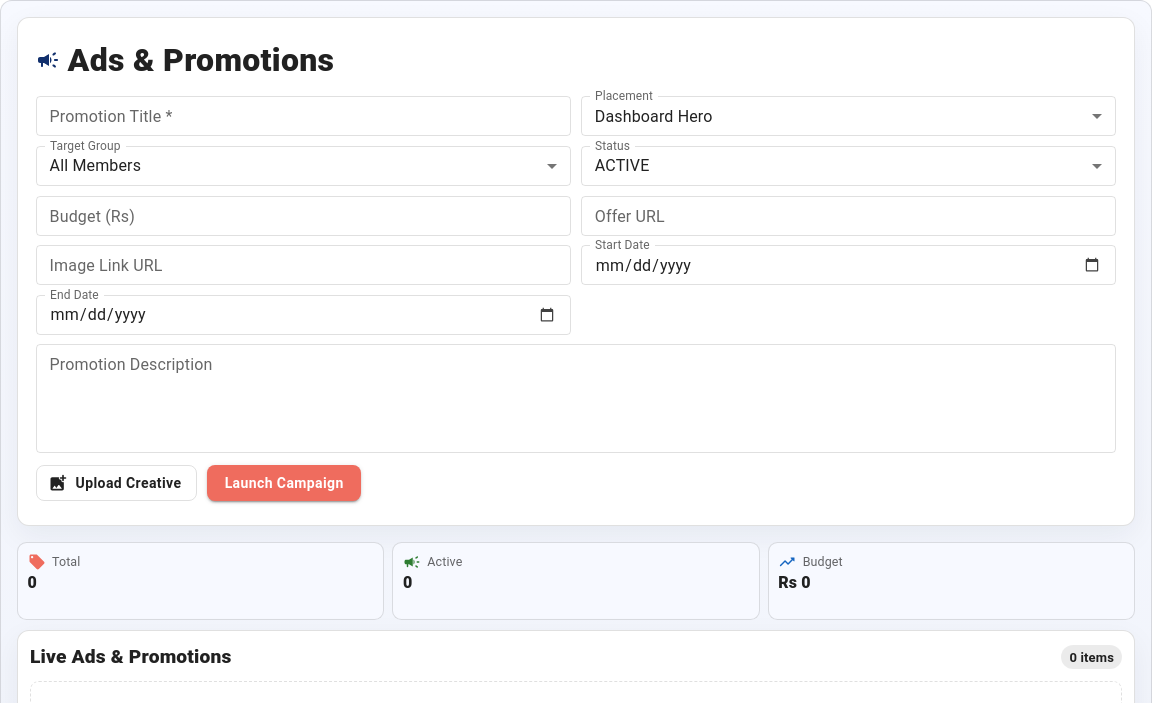
Test: AdminPromotions › shows validation error when required fields are missing
Click the button "Launch Campaign": (284, 483) [207, 464, 361, 501]
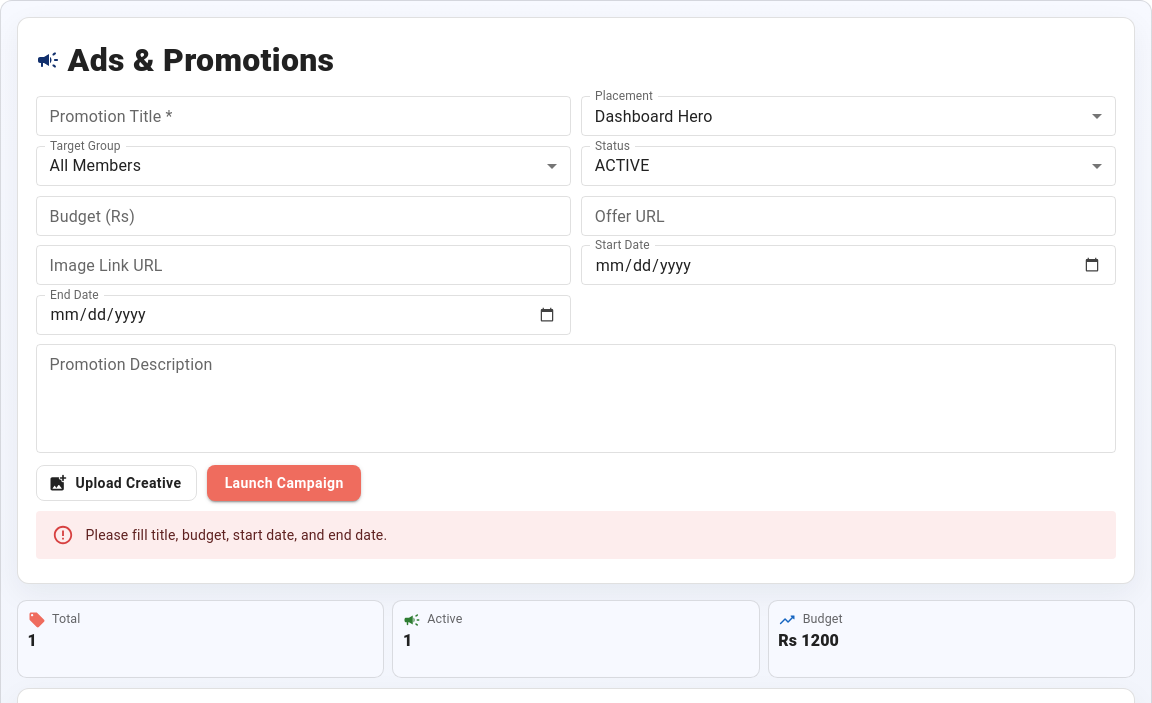
Result: the text "Please fill title, budget, start date, and end date." is shown at [86, 527, 387, 543]
